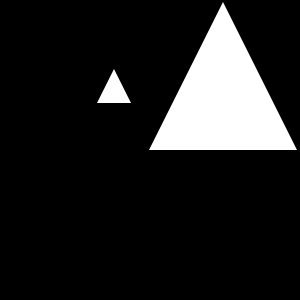triangle: (149, 2, 297, 150), (162, 28, 274, 140), (97, 69, 131, 103)
